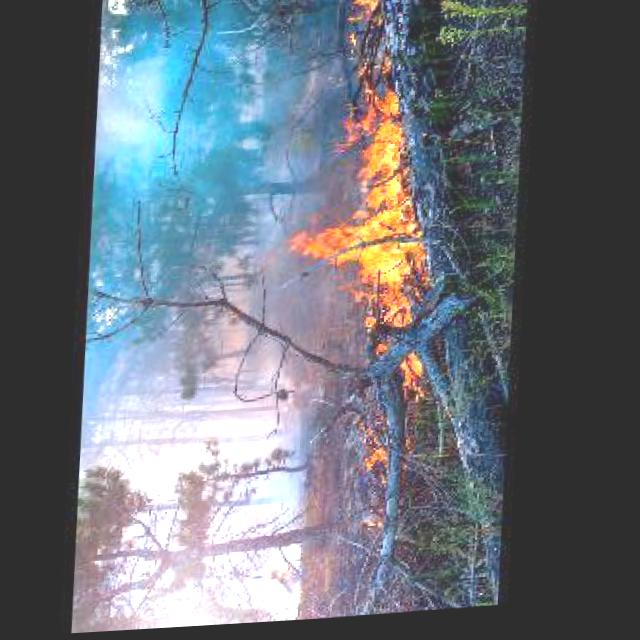helmet: (256, 0, 480, 577)
no_helmet: (78, 0, 289, 447)
